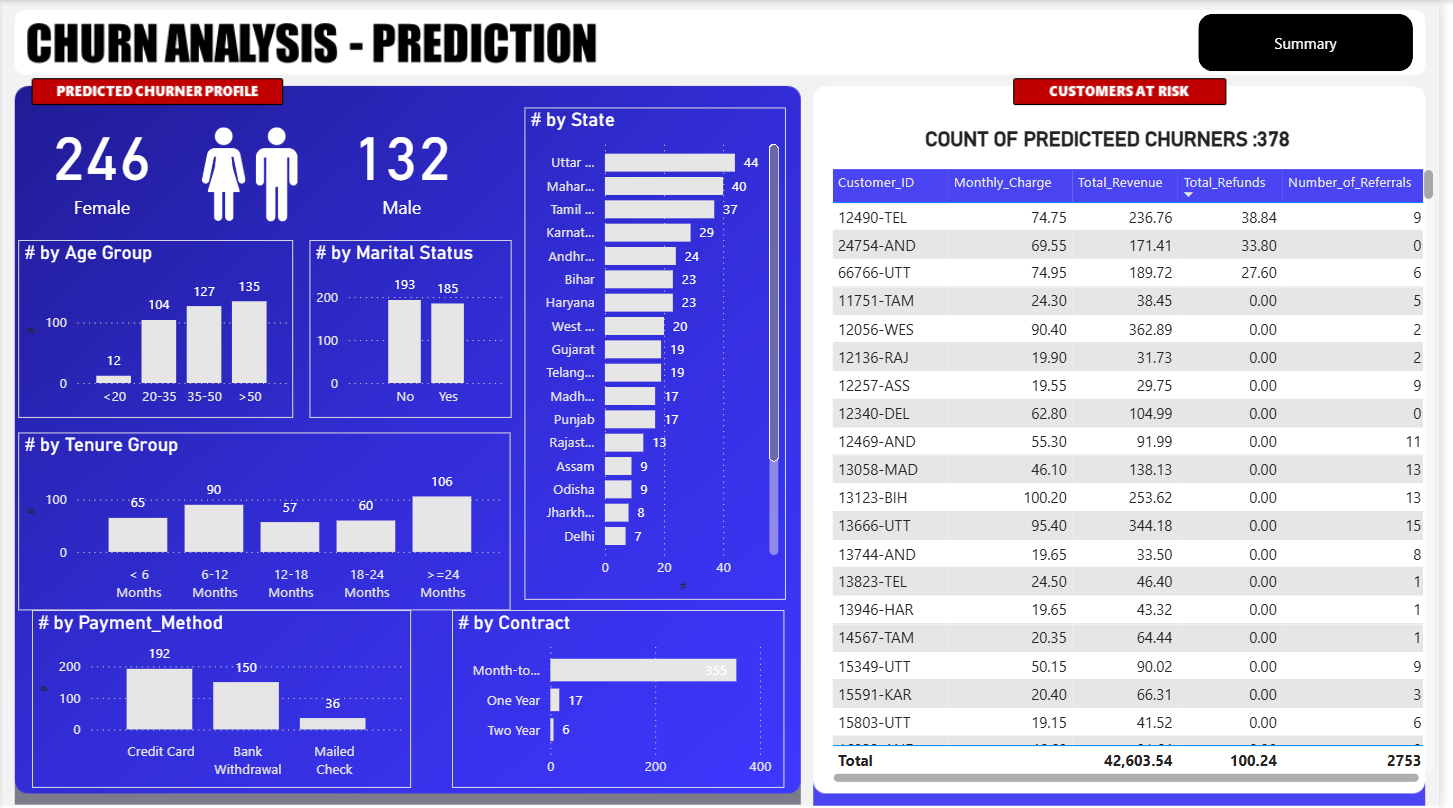

What the dashboard file says about the page in this screenshot:
{"tool":"powerbi","page":{"name":"Churn Prediction","canvas":[1280,720],"ordinal":2},"visuals":[{"type":"tableEx","fields":{"Values":["Prediction_Data.Customer_ID","Prediction_Data.Monthly_Charge","Sum(Prediction_Data.Total_Revenue)","Sum(Prediction_Data.Total_Refunds)","Sum(Prediction_Data.Number_of_Referrals)"]},"box":[733.8,146.2,546.2,556.2],"z":0},{"type":"card","fields":{"Values":["Prediction_Data.Title Predicted Churner"]},"box":[800,102.5,368.8,43.8],"z":1000},{"type":"card","fields":{"Values":["Prediction_Data.Count Predicted Churner"]},"box":[26.2,96.2,125,100],"z":2000},{"type":"card","fields":{"Values":["Prediction_Data.Count Predicted Churner"]},"box":[290,96.2,131.2,100],"z":3000},{"type":"clusteredColumnChart","fields":{"Category":["mapping_AgeGrp.Age Group "],"Y":["CountNonNull(Prediction_Data.Customer_ID)"]},"box":[15,213.8,245,158.8],"z":4000},{"type":"clusteredColumnChart","fields":{"Y":["CountNonNull(Prediction_Data.Customer_ID)"],"Category":["Prediction_Data.Married"]},"box":[273.8,213.8,180,158.8],"z":5000},{"type":"clusteredColumnChart","fields":{"Y":["CountNonNull(Prediction_Data.Customer_ID)"],"Category":["mapping_TenureGrp.Tenure Group"]},"box":[15,385,438.8,158.8],"z":6000},{"type":"clusteredColumnChart","fields":{"Y":["CountNonNull(Prediction_Data.Customer_ID)"],"Category":["Prediction_Data.Payment_Method"]},"box":[26.2,543.8,337.5,158.8],"z":7000},{"type":"clusteredBarChart","fields":{"Y":["CountNonNull(Prediction_Data.Customer_ID)"],"Category":["Prediction_Data.Contract"]},"box":[401.2,543.8,296.2,158.8],"z":8000},{"type":"clusteredBarChart","fields":{"Y":["CountNonNull(Prediction_Data.Customer_ID)"],"Category":["Prediction_Data.State"]},"box":[465,96.2,232.5,438.8],"z":9000},{"type":"image","box":[162.5,96.2,116.2,117.5],"z":9001},{"type":"shape","box":[1065,12.5,191.2,51.2],"z":9002}]}

Visuals, with their boxes in screenshot pixels (x1, y1, x2, y2), scaled from the page's 1280x720 canvas onto the 1453x808 screenshot:
tableEx - Prediction_Data.Customer_ID x Prediction_Data.Monthly_Charge: select_region(833, 164, 1452, 788)
card - Prediction_Data.Title Predicted Churner: select_region(908, 115, 1327, 164)
card - Prediction_Data.Count Predicted Churner: select_region(30, 108, 172, 220)
card - Prediction_Data.Count Predicted Churner: select_region(329, 108, 478, 220)
clusteredColumnChart - mapping_AgeGrp.Age Group  x CountNonNull(Prediction_Data.Customer_ID): select_region(17, 240, 295, 418)
clusteredColumnChart - CountNonNull(Prediction_Data.Customer_ID) x Prediction_Data.Married: select_region(311, 240, 515, 418)
clusteredColumnChart - CountNonNull(Prediction_Data.Customer_ID) x mapping_TenureGrp.Tenure Group: select_region(17, 432, 515, 610)
clusteredColumnChart - CountNonNull(Prediction_Data.Customer_ID) x Prediction_Data.Payment_Method: select_region(30, 610, 413, 788)
clusteredBarChart - CountNonNull(Prediction_Data.Customer_ID) x Prediction_Data.Contract: select_region(455, 610, 792, 788)
clusteredBarChart - CountNonNull(Prediction_Data.Customer_ID) x Prediction_Data.State: select_region(528, 108, 792, 600)
image: select_region(184, 108, 316, 240)
shape: select_region(1209, 14, 1426, 71)
